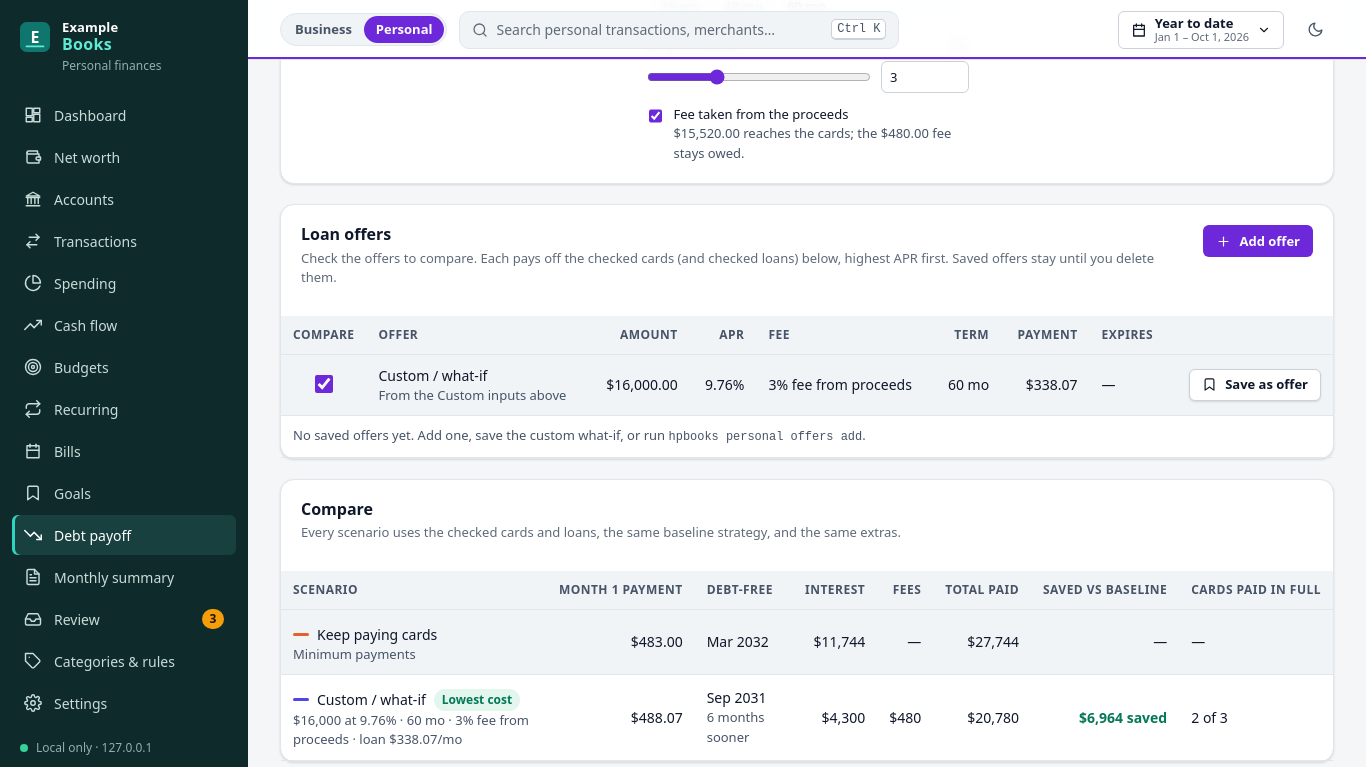
Test case: Debt payoff page, no saved offers › saves the custom what-if as an offer and selects it
(page scrolled)
Expected: the table named "Scenario comparison" is shown, top-left (281, 571), bottom-right (1333, 761)
Click the button "Save as offer": point(1255, 385) top-left (1189, 369), bottom-right (1321, 401)
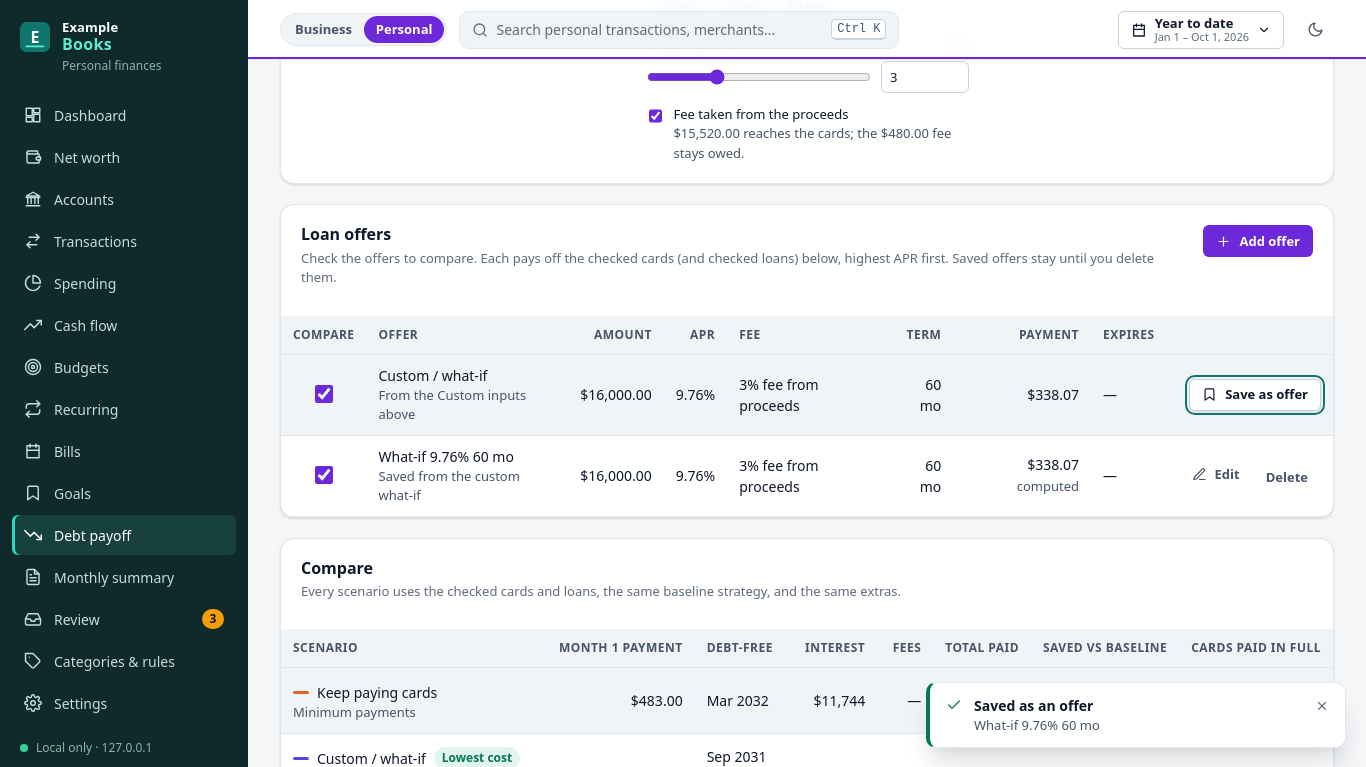
Result: the checkbox named "Compare What-if 9.76% 60 mo" is checked at top-left (315, 466), bottom-right (333, 484)
